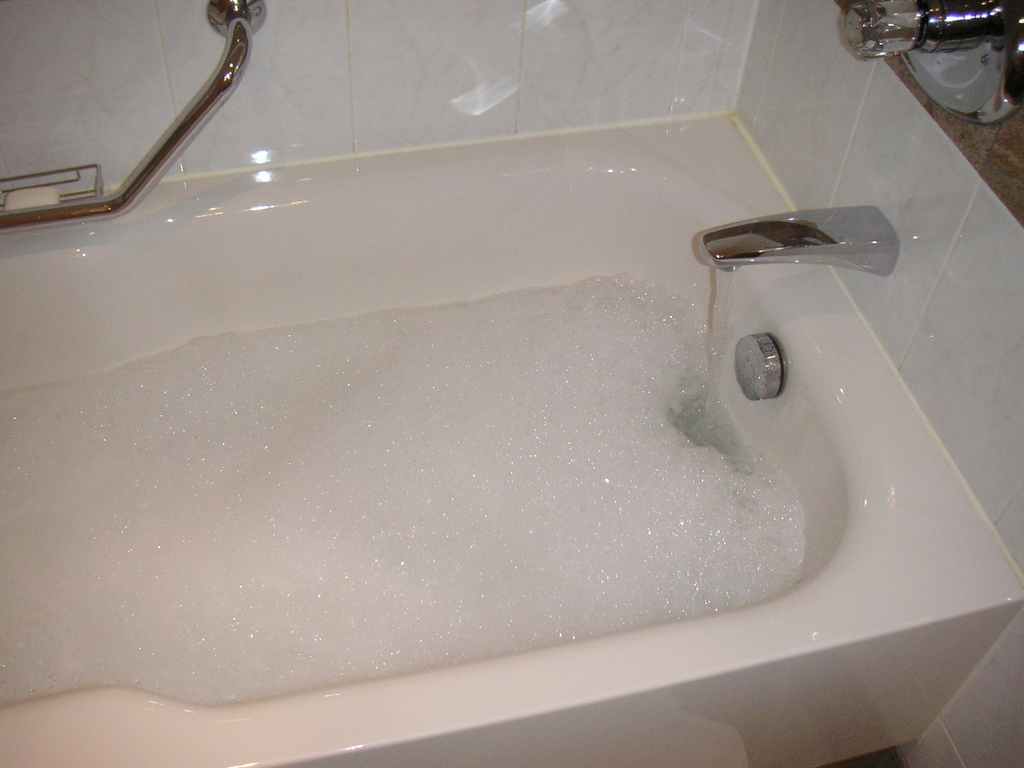tap: (679, 195, 929, 316)
